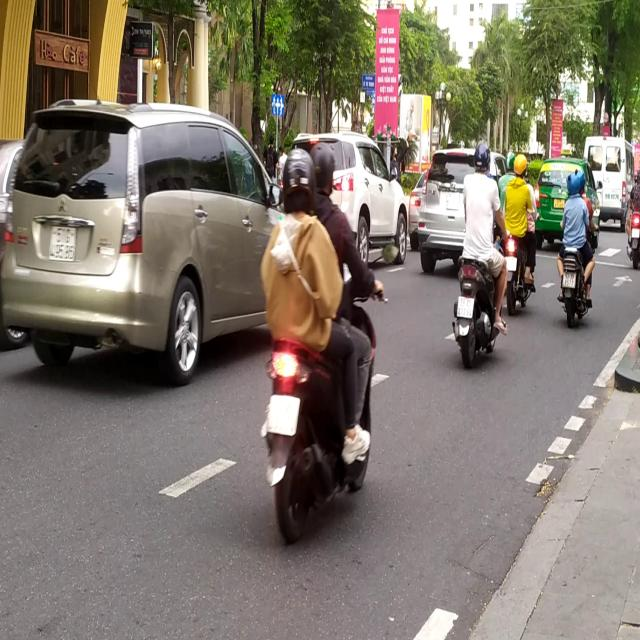bien_trang: (46, 224, 78, 264)
